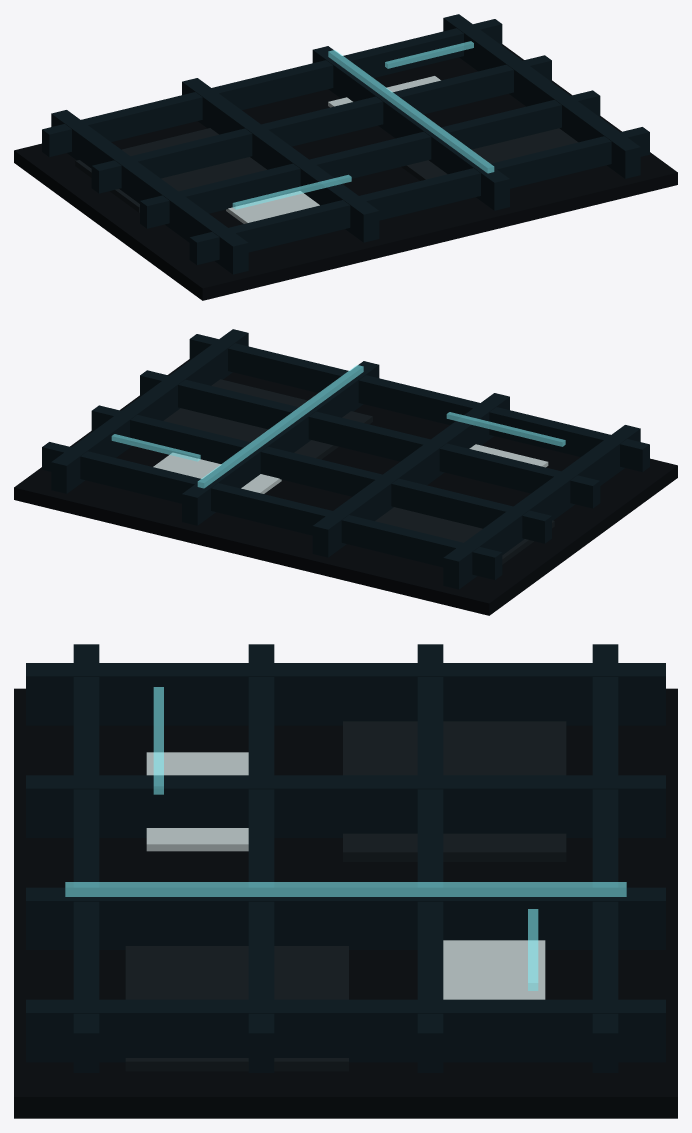
File: hp_room_ceiling_panel_clinic.glb
3 renders of one model, top to bottom at view 1: azimuth 30°, elevation 25°; view 2: azimuth 150°, elevation 25°; view 3: azimuth 270°, elevation 25°, orthographic. The views are drawn at different scales.
Parts seen in each view (by area): view 1: clinic_ceiling_shadow_backplate, clinic_ceiling_cross_beam_0.86, clinic_ceiling_cross_beam_-0.28, clinic_ceiling_cross_beam_-0.86, clinic_ceiling_cross_beam_0.28, clinic_ceiling_long_beam_-1.32, clinic_ceiling_long_beam_1.32, clinic_ceiling_long_beam_0.44, clinic_ceiling_long_beam_-0.44, clinic_ceiling_recess_left, clinic_ceiling_recess_right, clinic_ceiling_cyan_spine (+4 smaller); view 2: clinic_ceiling_shadow_backplate, clinic_ceiling_cross_beam_-0.86, clinic_ceiling_cross_beam_0.28, clinic_ceiling_cross_beam_0.86, clinic_ceiling_cross_beam_-0.28, clinic_ceiling_long_beam_-1.32, clinic_ceiling_long_beam_-0.44, clinic_ceiling_long_beam_1.32, clinic_ceiling_long_beam_0.44, clinic_ceiling_recess_right, clinic_ceiling_recess_left, clinic_ceiling_cyan_spine (+4 smaller); view 3: clinic_ceiling_shadow_backplate, clinic_ceiling_long_beam_1.32, clinic_ceiling_long_beam_-1.32, clinic_ceiling_long_beam_-0.44, clinic_ceiling_long_beam_0.44, clinic_ceiling_recess_left, clinic_ceiling_recess_right, clinic_ceiling_cross_beam_-0.86, clinic_ceiling_cross_beam_-0.28, clinic_ceiling_cross_beam_0.28, clinic_ceiling_cross_beam_0.86, clinic_ceiling_cyan_spine (+4 smaller).
Boxes of the visible parts, x1,y1,x2,y2 form: clinic_ceiling_shadow_backplate: (14,44,677,300); clinic_ceiling_cross_beam_0.86: (189,127,649,264); clinic_ceiling_cross_beam_-0.28: (91,55,551,193); clinic_ceiling_cross_beam_-0.86: (42,19,502,156); clinic_ceiling_cross_beam_0.28: (140,90,600,228); clinic_ceiling_long_beam_-1.32: (51,110,248,274); clinic_ceiling_long_beam_1.32: (443,14,640,178); clinic_ceiling_long_beam_0.44: (312,46,509,210); clinic_ceiling_long_beam_-0.44: (182,78,379,242); clinic_ceiling_recess_left: (75,128,266,212); clinic_ceiling_recess_right: (401,128,578,180); clinic_ceiling_cyan_spine: (328,50,494,173); clinic_ceiling_shadow_backplate: (14,359,677,615); clinic_ceiling_cross_beam_-0.86: (42,442,502,579); clinic_ceiling_cross_beam_0.28: (140,370,600,508); clinic_ceiling_cross_beam_0.86: (189,334,649,471); clinic_ceiling_cross_beam_-0.28: (91,405,551,543); clinic_ceiling_long_beam_-1.32: (443,425,640,589); clinic_ceiling_long_beam_-0.44: (312,393,509,557); clinic_ceiling_long_beam_1.32: (51,329,248,493); clinic_ceiling_long_beam_0.44: (182,361,379,525); clinic_ceiling_recess_right: (163,379,372,459); clinic_ceiling_recess_left: (375,507,554,564); clinic_ceiling_cyan_spine: (197,365,363,488); clinic_ceiling_shadow_backplate: (14,688,677,1118); clinic_ceiling_long_beam_1.32: (26,999,665,1062); clinic_ceiling_long_beam_-1.32: (26,663,665,725); clinic_ceiling_long_beam_-0.44: (26,775,665,837); clinic_ceiling_long_beam_0.44: (26,887,665,949); clinic_ceiling_recess_left: (343,721,566,861); clinic_ceiling_recess_right: (125,946,348,1071); clinic_ceiling_cross_beam_-0.86: (592,644,618,1072); clinic_ceiling_cross_beam_-0.28: (417,644,443,1072); clinic_ceiling_cross_beam_0.28: (248,644,274,1072); clinic_ceiling_cross_beam_0.86: (73,644,99,1072); clinic_ceiling_cyan_spine: (65,882,626,896).
Size of the model in its own units: 3.2 by 0.315 by 2.2.
